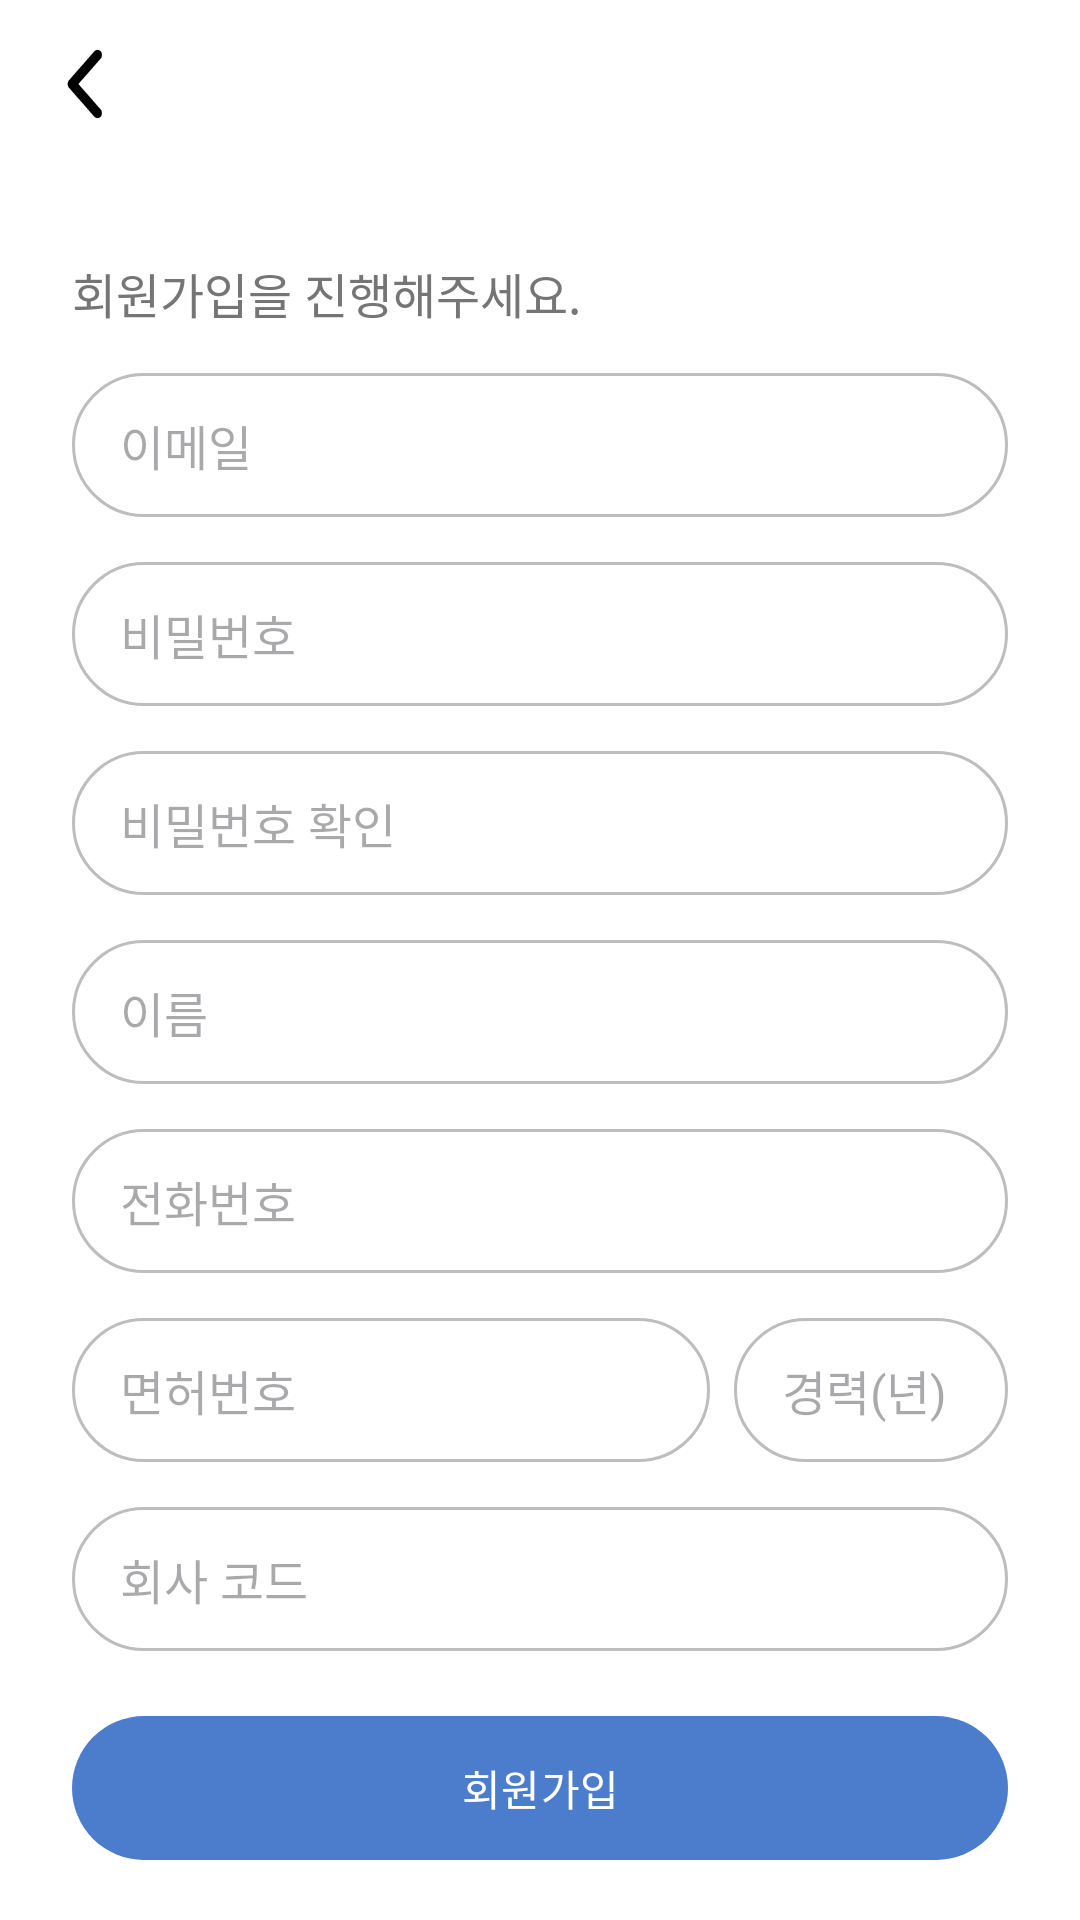

Named icons in this screenshot (1080px x 1920px) and their bounding boxes, (x1, y1, x2, y2):
back arrow: (67, 49, 102, 119)
